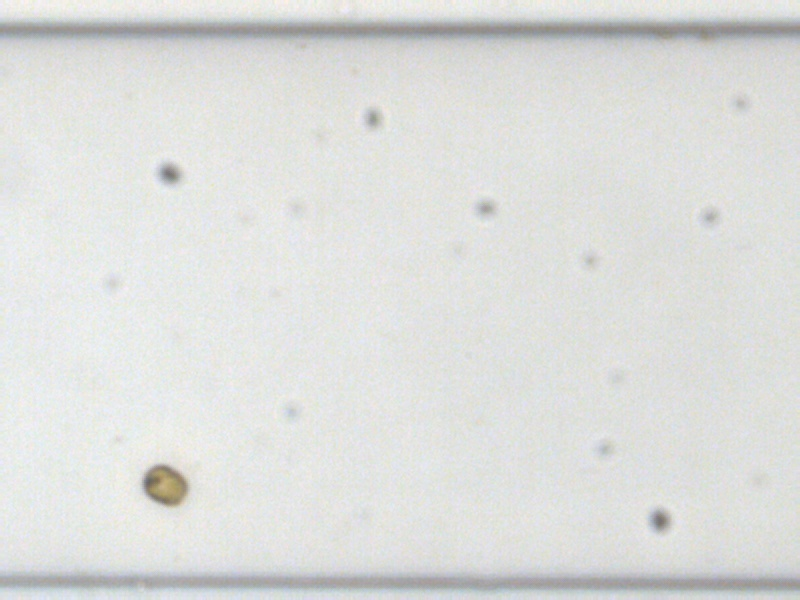Effrenium: (143, 464, 189, 507)
